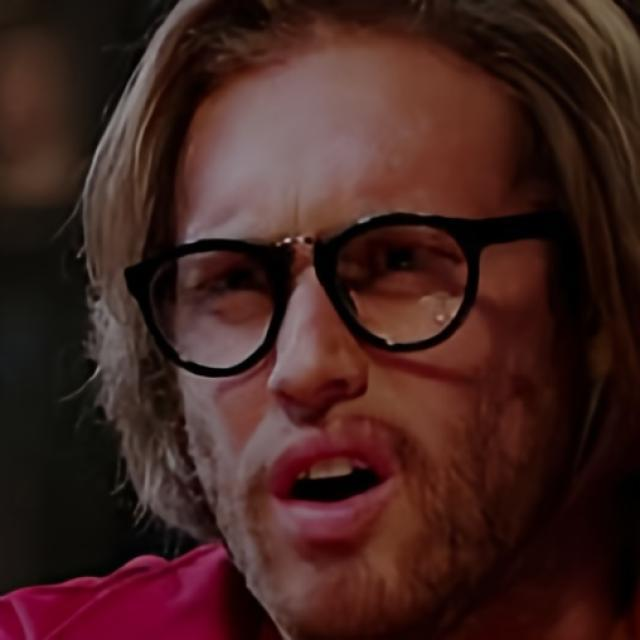anger: (170, 26, 567, 640)
